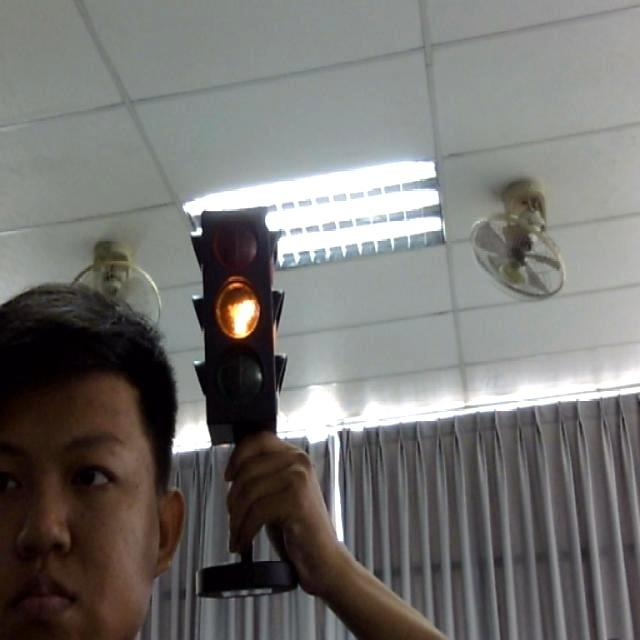Yellow: (190, 205, 298, 444)
